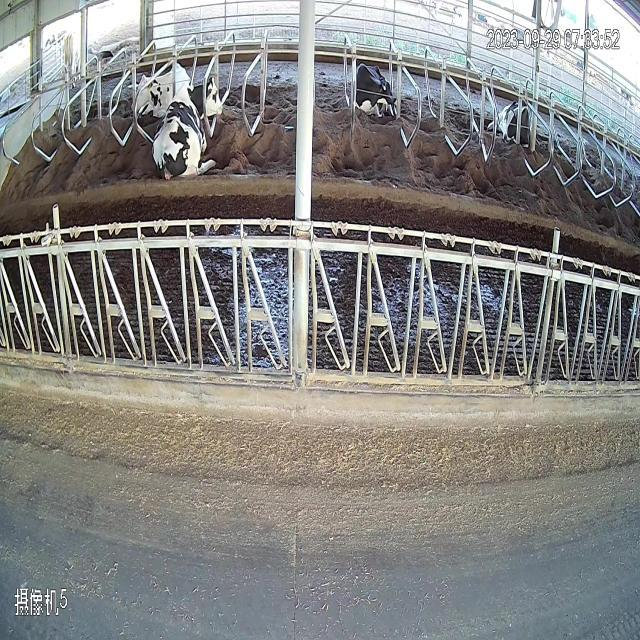lying down: (122, 18, 588, 222)
